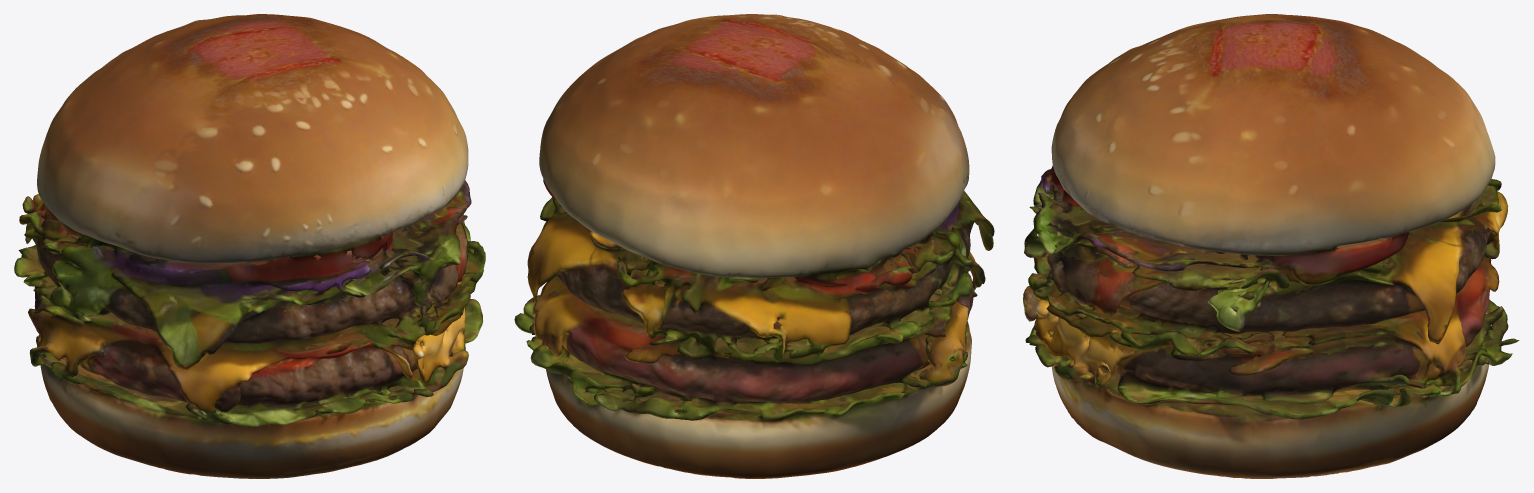
File: source.glb
The picture shows the model from 3 angles, left to right: view 1: azimuth 30°, elevation 25°; view 2: azimuth 150°, elevation 25°; view 3: azimuth 270°, elevation 25°; orthographic projection. The views are drawn at different scales.
Parts seen in each view (by area): view 1: Object_2, Object_3; view 2: Object_2, Object_3; view 3: Object_2, Object_3.
Boxes of the visible parts, x1=… form: Object_2: x1=14, y1=14, x2=485, y2=478; Object_3: x1=19, y1=22, x2=477, y2=478; Object_2: x1=514, y1=14, x2=994, y2=478; Object_3: x1=523, y1=18, x2=992, y2=444; Object_2: x1=1023, y1=14, x2=1519, y2=478; Object_3: x1=1029, y1=16, x2=1501, y2=477.
Size of the model in its own units: 1.96 by 1.6 by 1.99.
1 material, 1 textured.
